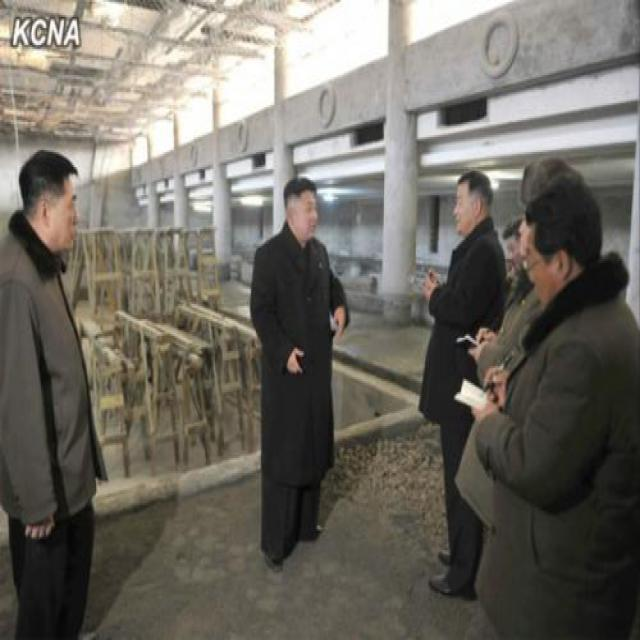head: (516, 162, 607, 309), (15, 142, 87, 264), (280, 172, 324, 245), (453, 165, 495, 240)
person: (473, 166, 637, 630), (5, 134, 112, 640), (234, 167, 362, 575), (406, 161, 506, 616)
